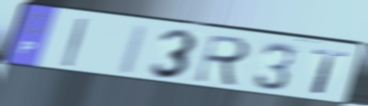3: (148, 28, 199, 81), (254, 40, 296, 93)
I: (116, 22, 152, 76), (61, 16, 90, 69)
R: (191, 32, 253, 89)
T: (311, 47, 351, 97)
